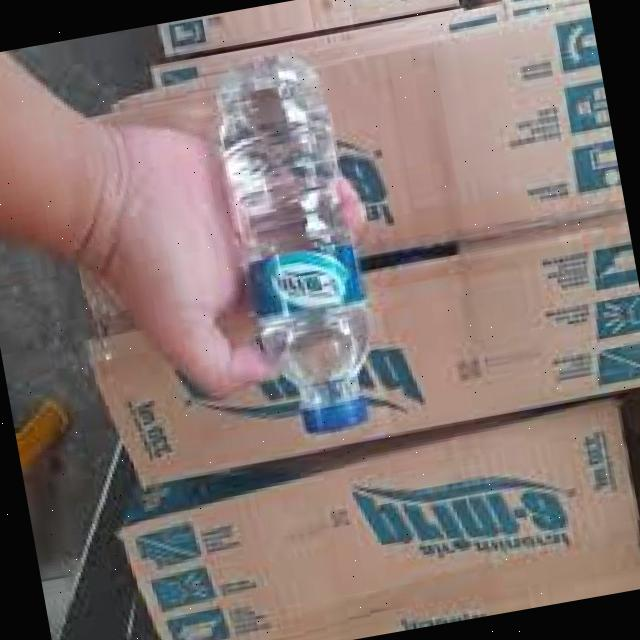bottle: (202, 41, 406, 462)
label: (235, 237, 372, 330)
